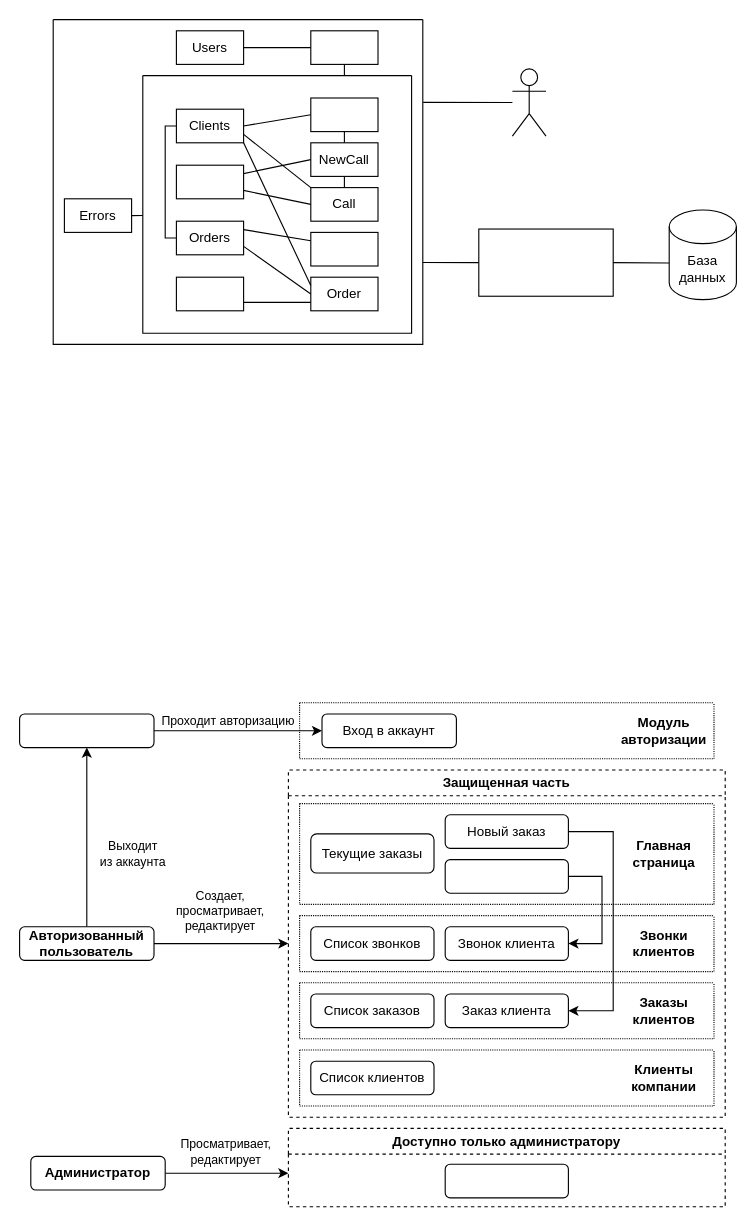
The diagram is 756 pixels wide and 1226 high, and some of its shapes have lost their labels. Here are the shapes that lost their labels. From the top down, the centre of each, then its label:
At pixel 344 47: "Login".
At pixel 344 114: "Client".
At pixel 528 102: "Пользователь".
At pixel 209 181: "Calls".
At pixel 344 248: "NewOrder".
At pixel 545 262: "Бэкенд".
At pixel 209 293: "Stocks".
At pixel 86 730: "Неавторизованный пользователь".
At pixel 506 875: "Новый звонок".
At pixel 506 1180: "Список пользователей".
